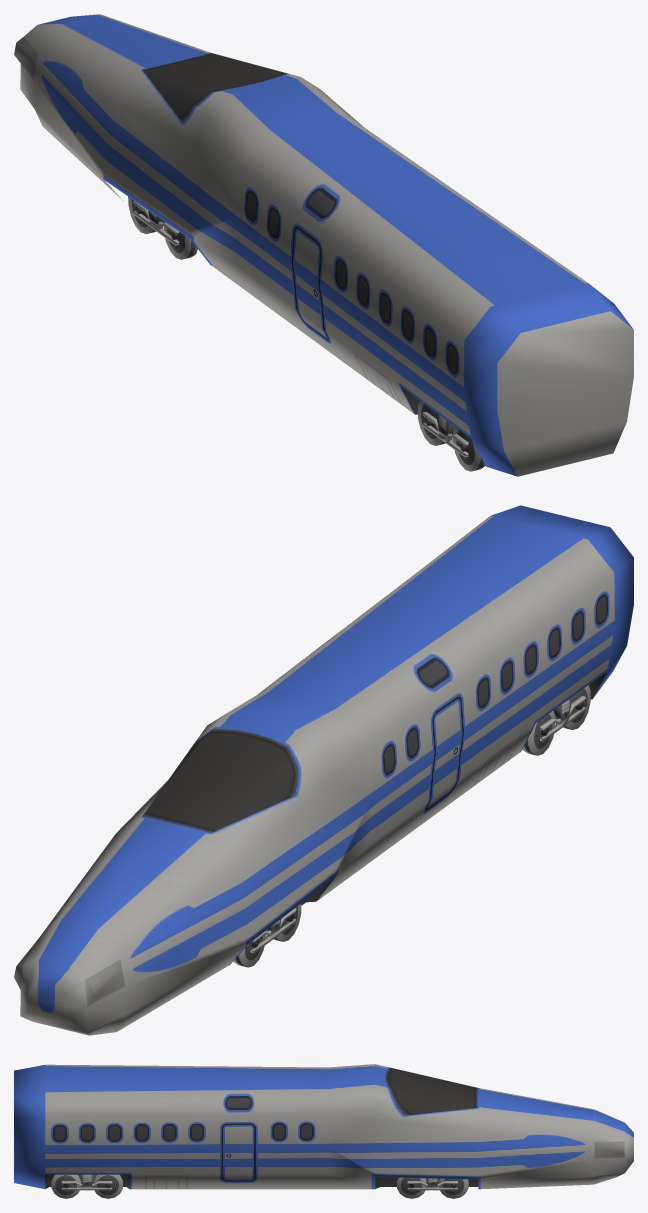
The model's file is carriage.glb.
3 renders of one model, top to bottom at view 1: azimuth 30°, elevation 25°; view 2: azimuth 150°, elevation 25°; view 3: azimuth 270°, elevation 25°, orthographic. The views are drawn at different scales.
Parts seen in each view (by area): view 1: Wheel_a; view 2: Wheel_a; view 3: Wheel_a.
Boxes of the visible parts, x1,y1,x2,y2 form: Wheel_a: (14, 14, 633, 476); Wheel_a: (14, 505, 633, 1035); Wheel_a: (14, 1064, 633, 1198).
Size of the model in its own units: 99.25 by 114 by 592.
1 material, 1 textured.
